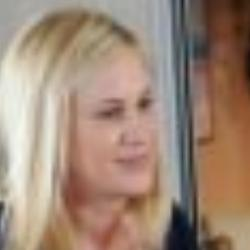face: (1, 5, 175, 235)
